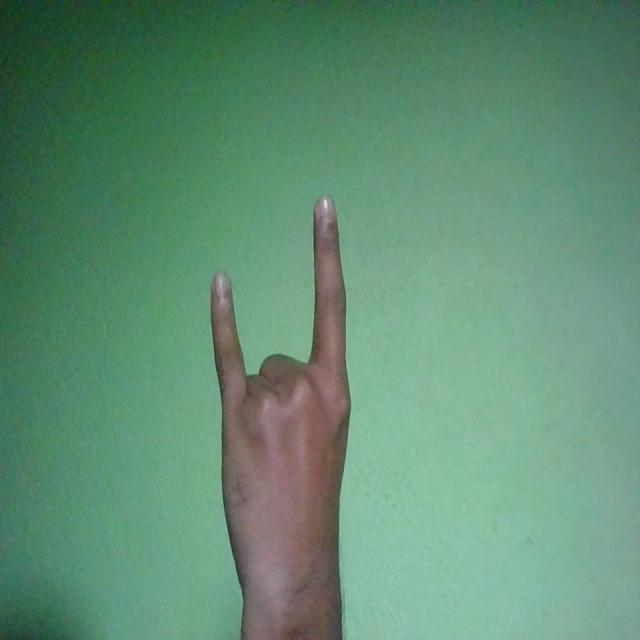open Plam: (210, 194, 351, 621)
